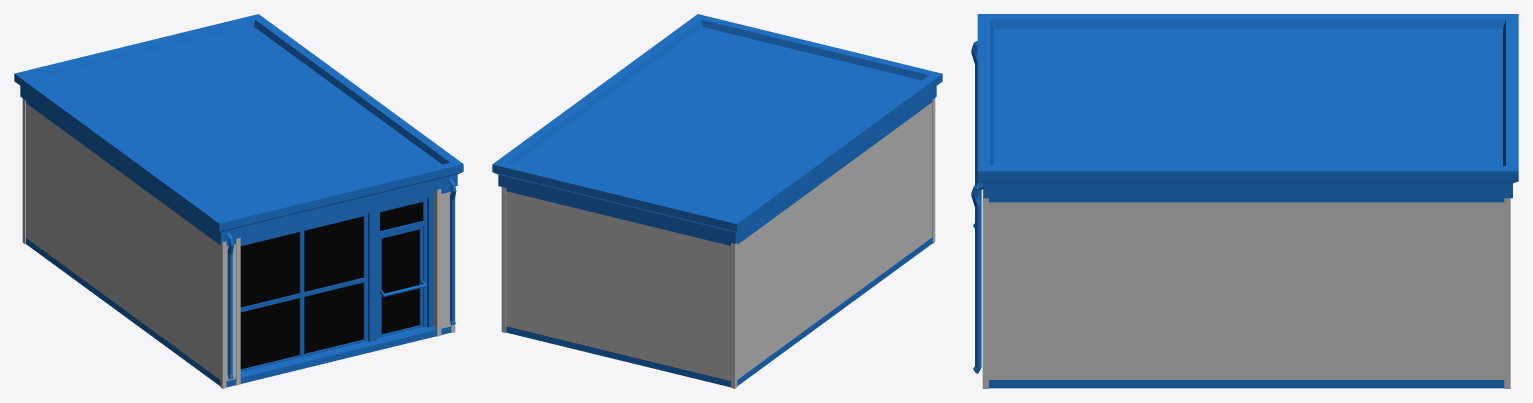
Rendered from SM_shop.fbx.
The picture shows the model from 3 angles, left to right: view 1: azimuth 30°, elevation 25°; view 2: azimuth 150°, elevation 25°; view 3: azimuth 270°, elevation 25°; orthographic projection. The views are drawn at different scales.
Parts seen in each view (by area): view 1: Cylinder_3, Cube_76, Cube_4; view 2: Cube_76, Cylinder_3; view 3: Cylinder_3, Cube_76.
Part boxes in pixels (x1,y1,x2,y2): Cylinder_3: [14, 14, 463, 379]; Cube_76: [22, 98, 455, 388]; Cube_4: [380, 225, 426, 337]; Cube_76: [501, 98, 935, 388]; Cylinder_3: [492, 14, 942, 243]; Cylinder_3: [971, 14, 1518, 373]; Cube_76: [982, 189, 1510, 388].
Bounding box in the file's own units: 562 × 369 × 826.
